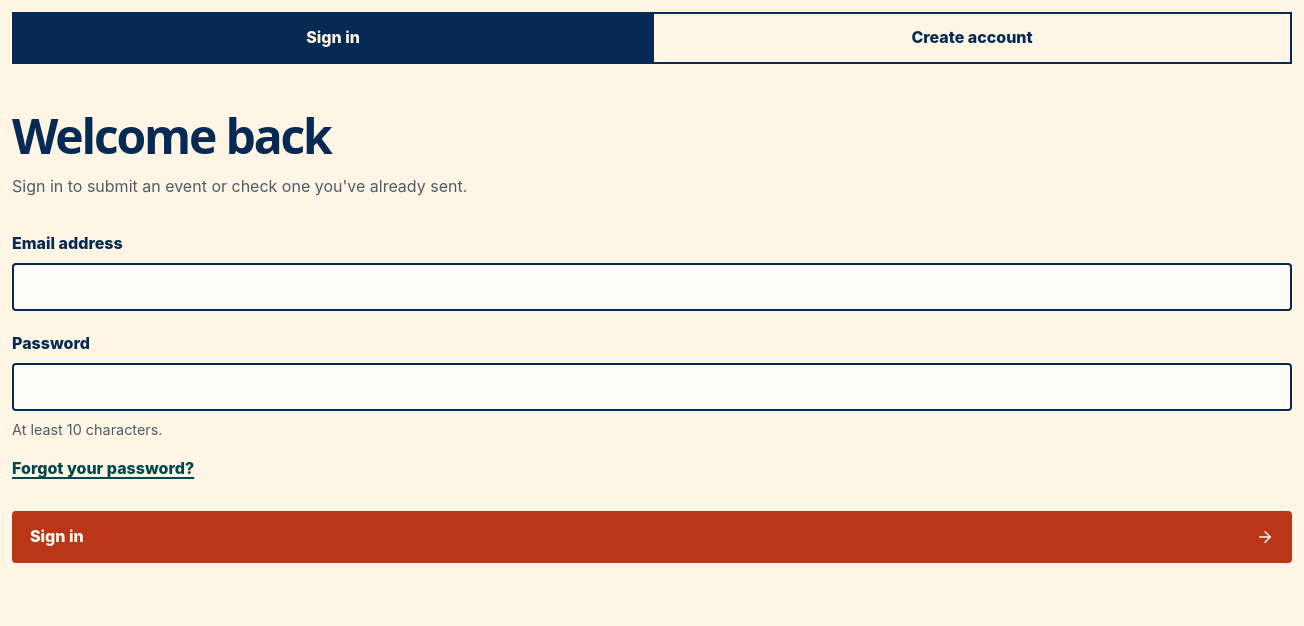
Test: AuthForm › shows a friendly sign-in error without clearing entered credentials
Type "person@example.com" into the field labelled "Email address" at (652, 287), box [12,263,1292,311]
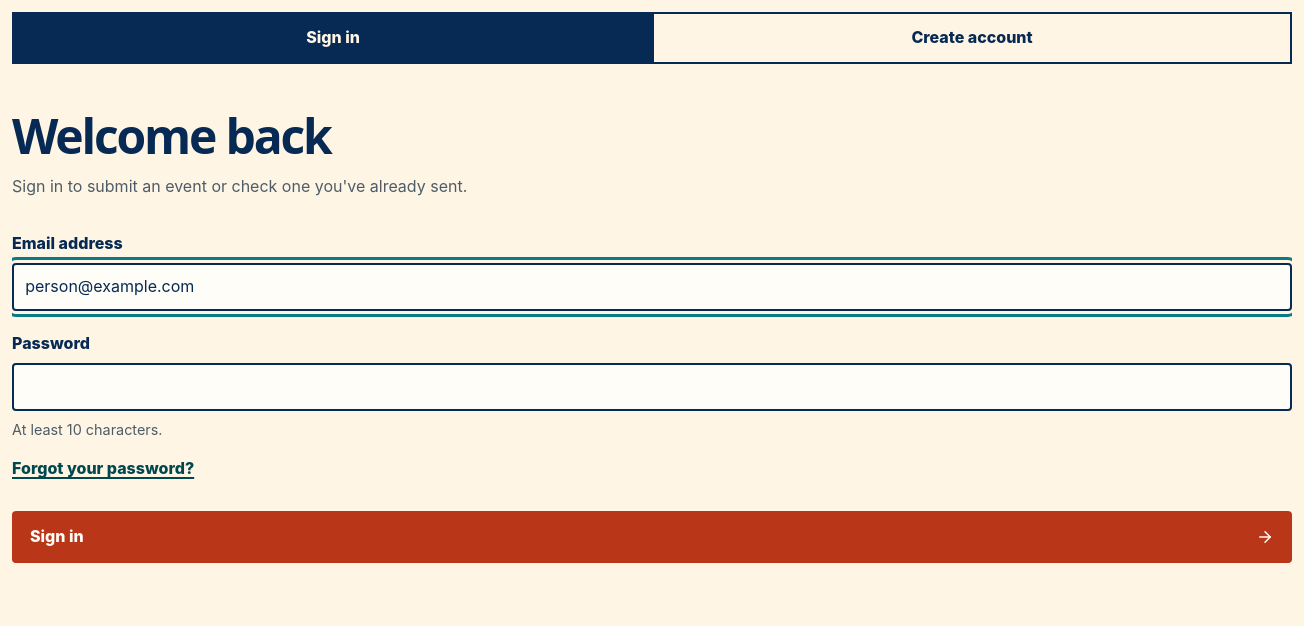
Type "correct horse" into the password field labelled "Password" at (652, 387), box [12,363,1292,411]
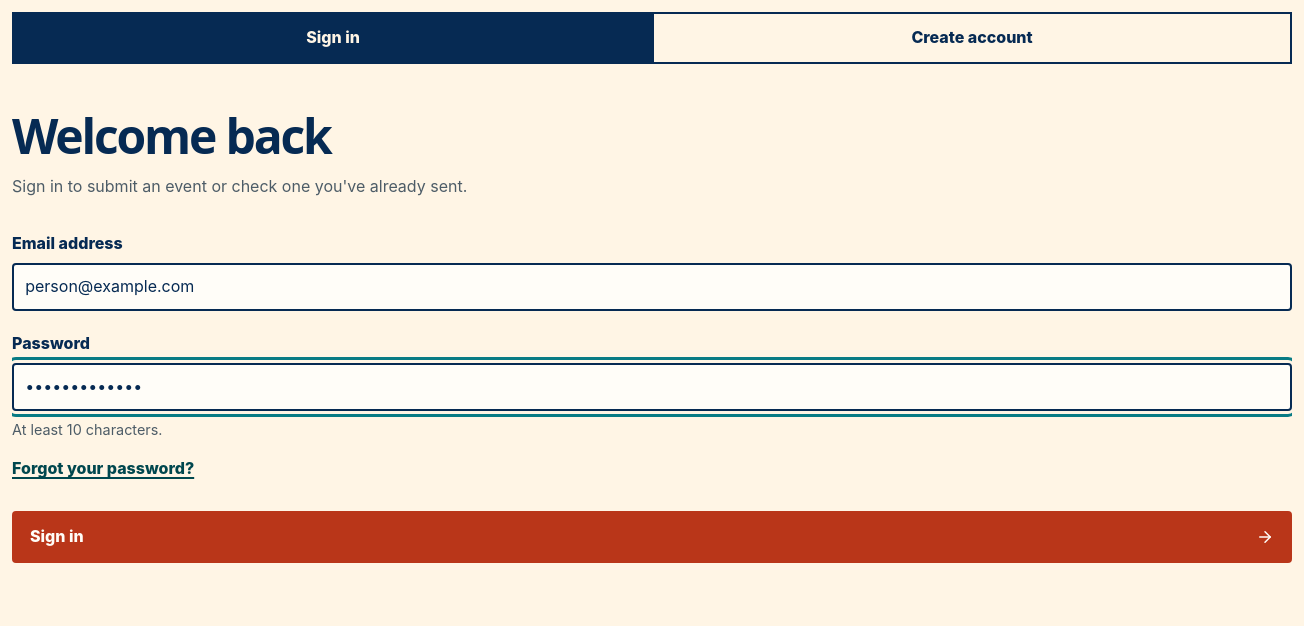
Click the button "Sign in" below "At least" at (57, 536), box [12,511,1292,563]
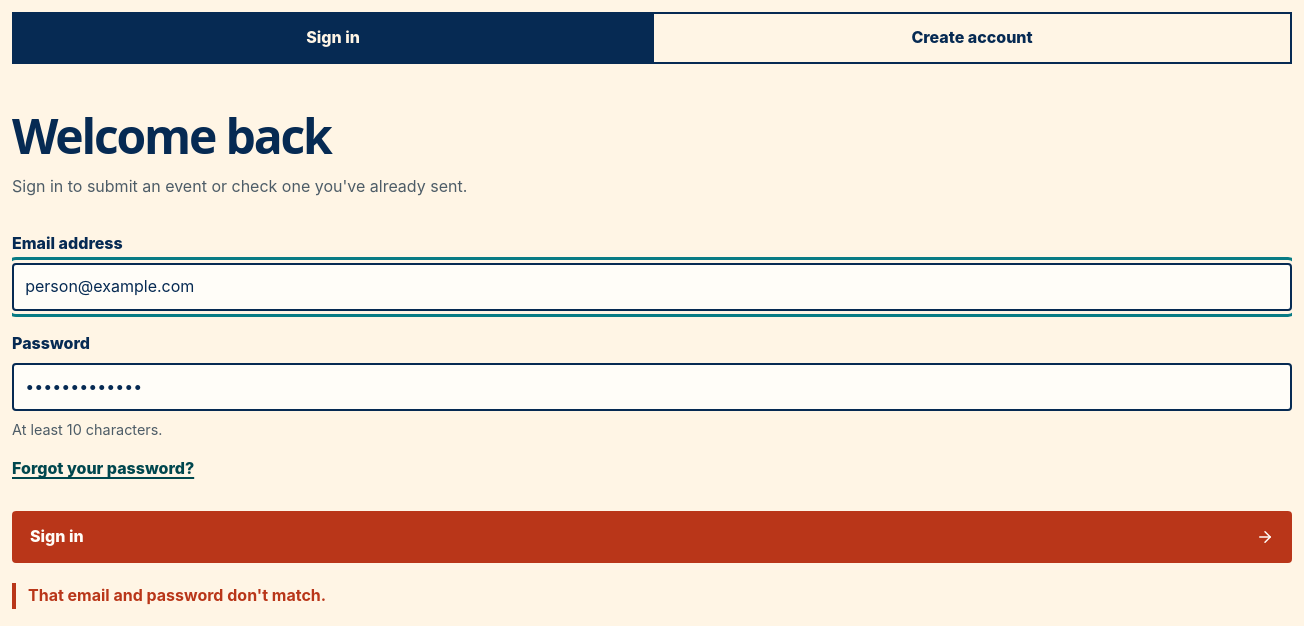
Check: the message reads "That email and password don't match.", box [28,585,326,605]
Type "!" into the password field labelled "Password" at (652, 387), box [12,363,1292,411]
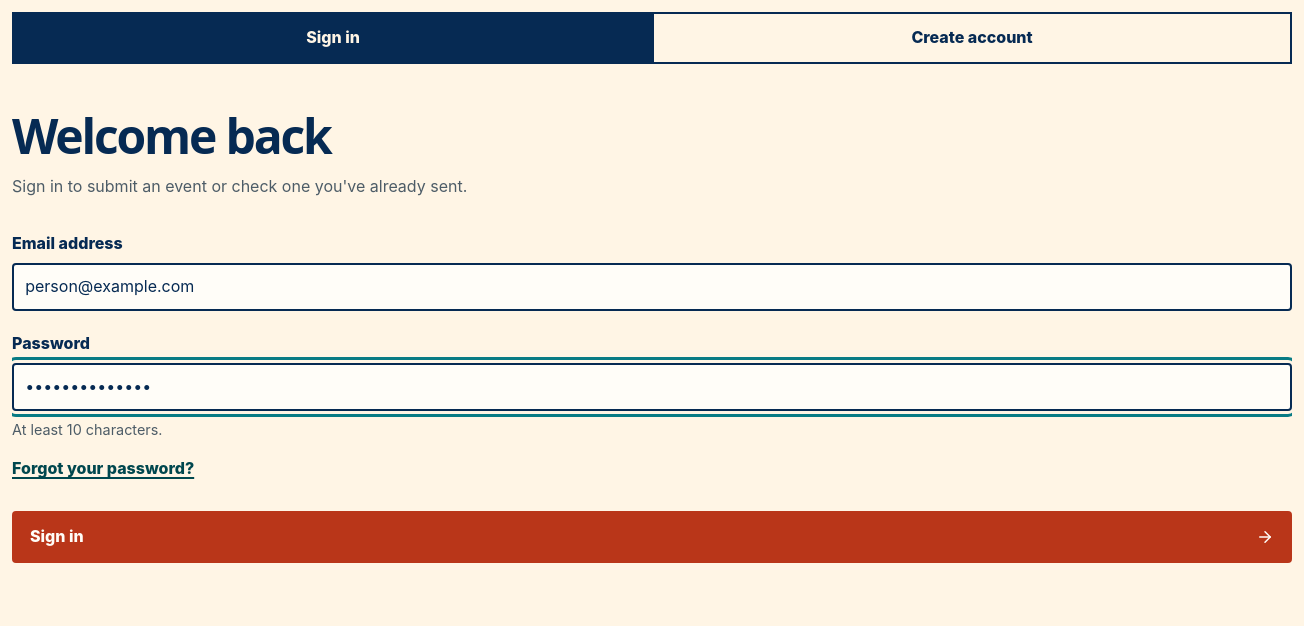
Check: the message "That email and password don't match." is gone
